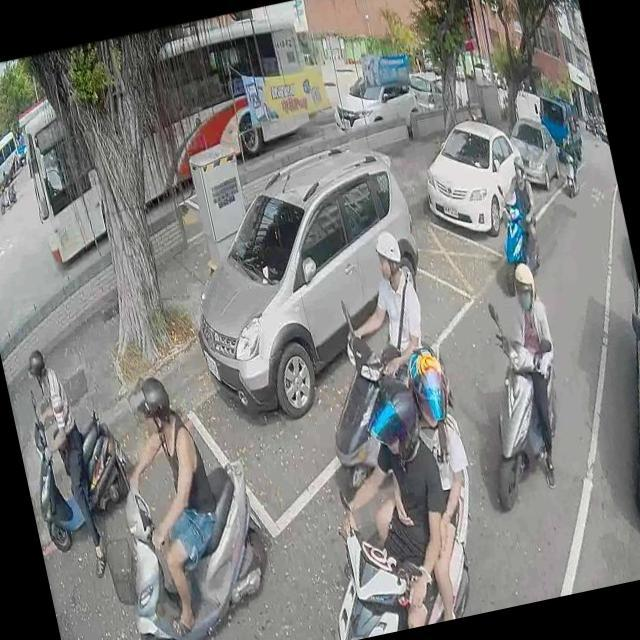person: (338, 332, 498, 628), (307, 374, 469, 639), (102, 362, 241, 640), (16, 338, 109, 574), (492, 250, 582, 490), (325, 222, 434, 386), (490, 154, 546, 273), (132, 623, 192, 640), (0, 167, 13, 209), (560, 133, 574, 155)
